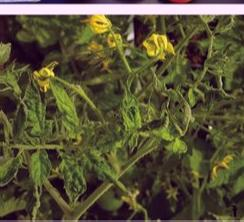Tomato leaf mosaic virus: (51, 84, 77, 140), (57, 158, 87, 206), (23, 81, 44, 141), (28, 148, 50, 189), (0, 150, 21, 187)
